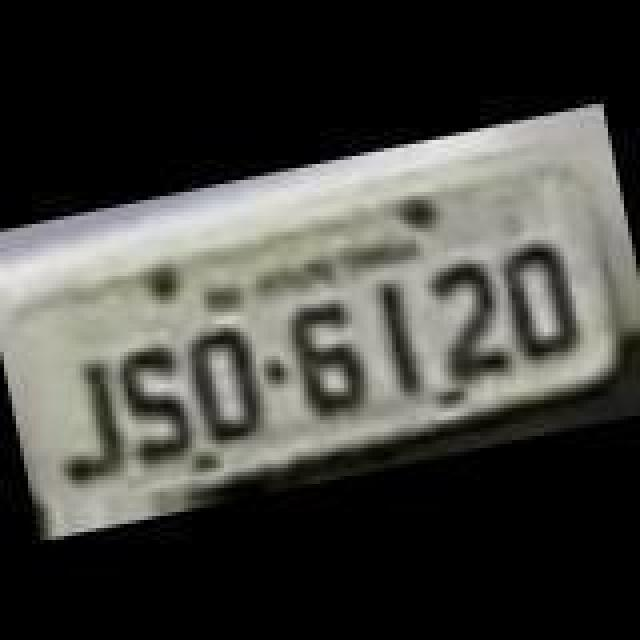1: (368, 274, 432, 398)
2: (420, 254, 516, 386)
6: (282, 294, 374, 418)
J: (36, 358, 132, 490)
O: (496, 230, 584, 362), (180, 322, 268, 446)
S: (104, 334, 200, 466)
